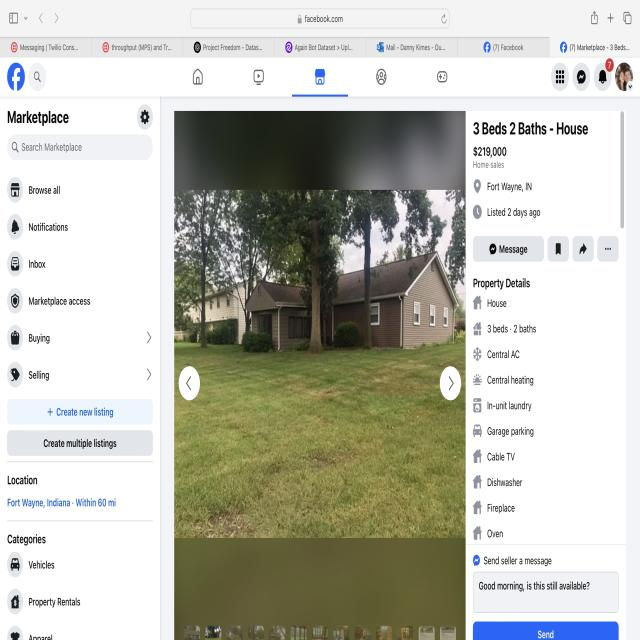message_button: (476, 620, 616, 640)
